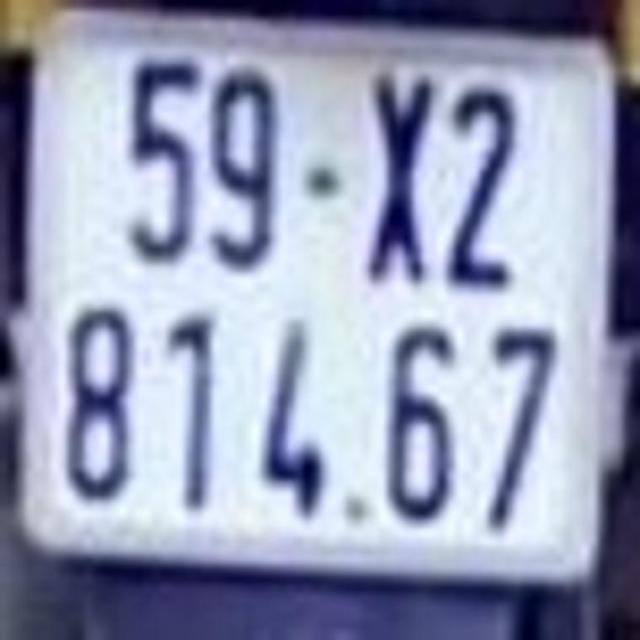1: (157, 288, 230, 517)
2: (448, 74, 523, 300)
4: (254, 302, 337, 524)
5: (117, 39, 202, 268)
6: (380, 310, 464, 540)
7: (482, 306, 572, 553)
8: (56, 274, 140, 521)
9: (208, 42, 283, 285)
X: (359, 66, 437, 293)
